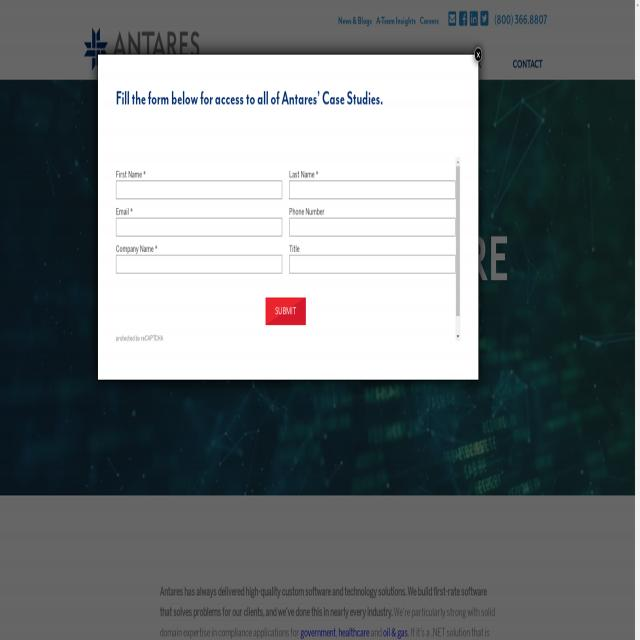button: (84, 28, 200, 72), (504, 42, 552, 80), (266, 298, 306, 324), (456, 167, 460, 316), (468, 11, 479, 29), (479, 11, 490, 29), (448, 11, 458, 29), (458, 11, 468, 29), (474, 48, 482, 62), (456, 331, 460, 341), (456, 158, 460, 166)
field: (116, 180, 282, 200), (290, 180, 456, 199), (288, 218, 454, 237), (116, 255, 282, 274), (116, 218, 282, 236), (290, 255, 454, 273)
